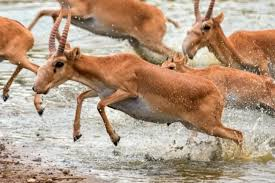saiga: (31, 4, 249, 164), (182, 1, 275, 79)
